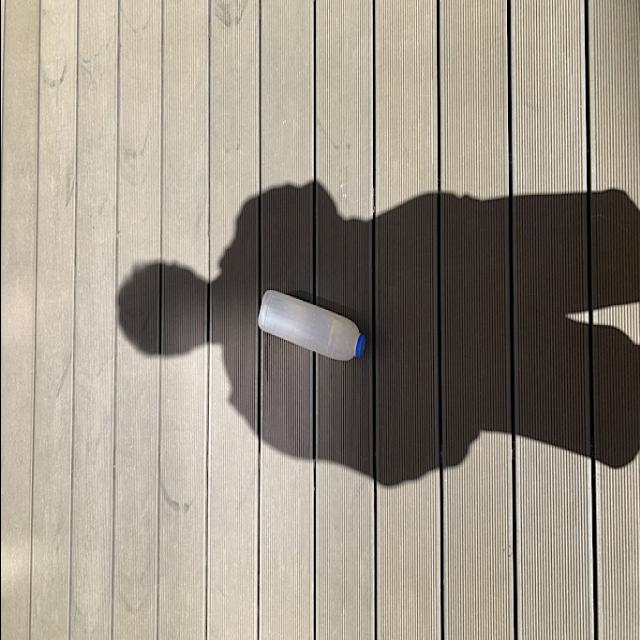litter: (254, 284, 364, 366)
